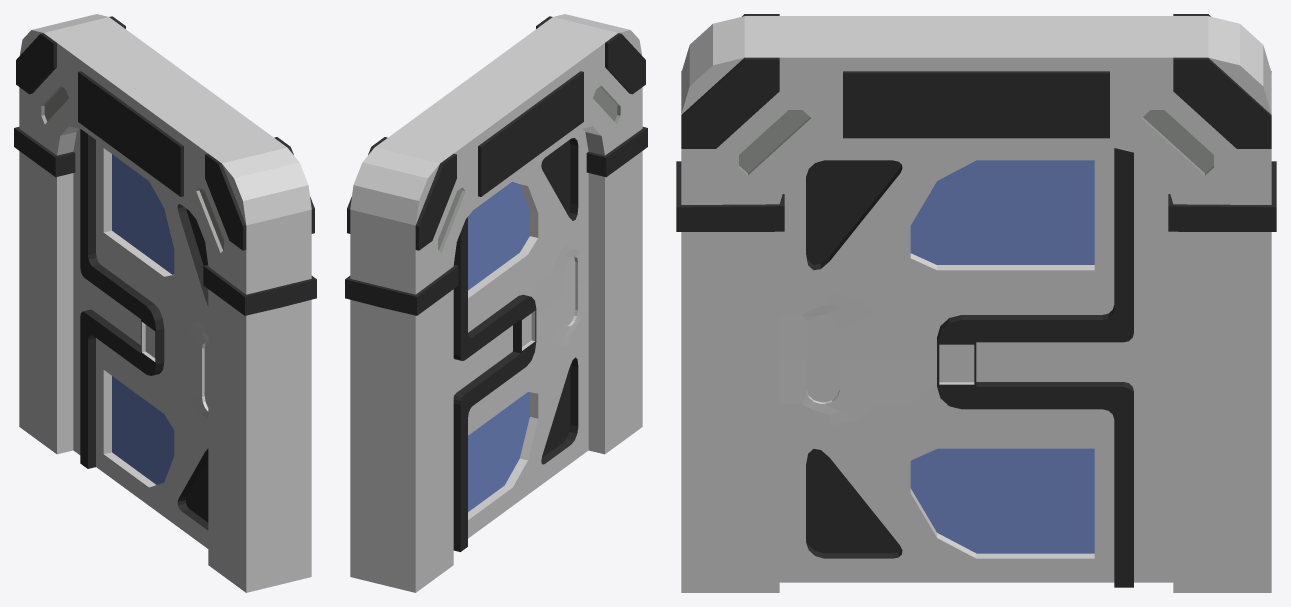
Rendered from door.fbx.
The picture shows the model from 3 angles, left to right: view 1: azimuth 30°, elevation 25°; view 2: azimuth 150°, elevation 25°; view 3: azimuth 270°, elevation 25°; orthographic projection. The views are drawn at different scales.
Visible parts, largest first — view 1: outline_door, door; view 2: outline_door, door; view 3: door, outline_door.
Part boxes in pixels (left/top/right/bottom): outline_door: left=14, top=14, right=316, bottom=592; door: left=73, top=129, right=208, bottom=548; outline_door: left=345, top=14, right=647, bottom=592; door: left=453, top=129, right=588, bottom=551; door: left=779, top=147, right=1173, bottom=587; outline_door: left=676, top=14, right=1276, bottom=592.
Size of the model in its own units: 44 by 240 by 244.
